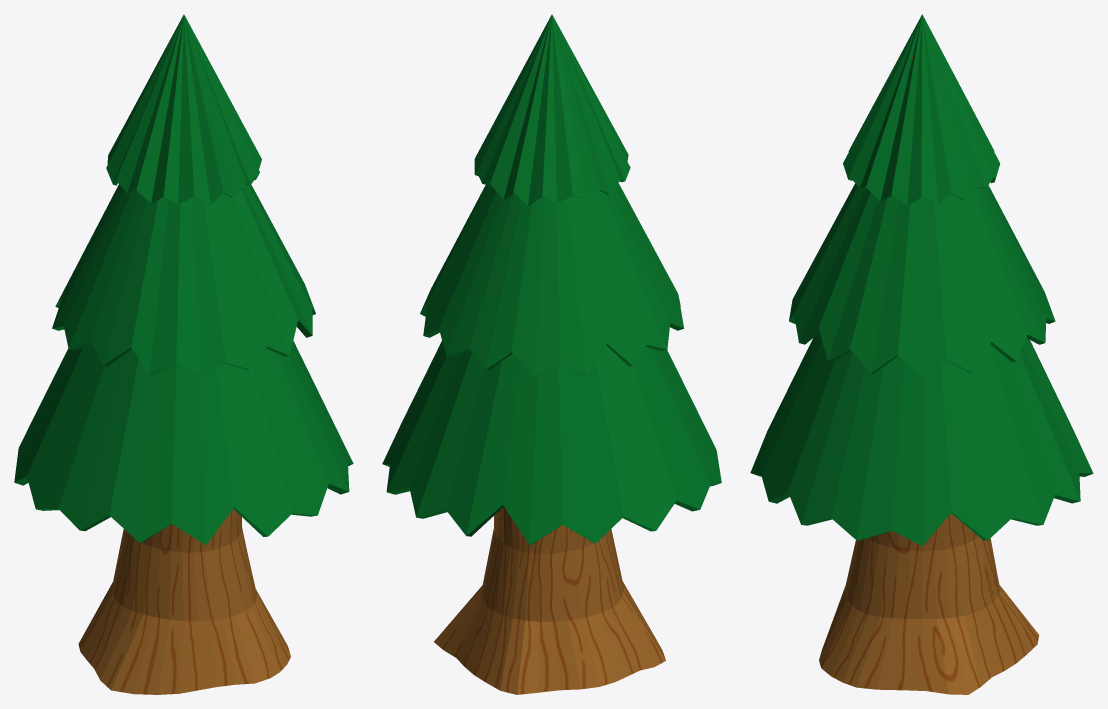
File: tree.fbx
The picture shows the model from 3 angles, left to right: view 1: azimuth 30°, elevation 25°; view 2: azimuth 150°, elevation 25°; view 3: azimuth 270°, elevation 25°; orthographic projection.
Visible parts, largest first — view 1: Leaves_bot, Leaves_mid, Trunk, Leaves_top.001; view 2: Leaves_bot, Leaves_mid, Trunk, Leaves_top.001; view 3: Leaves_bot, Leaves_mid, Trunk, Leaves_top.001.
Part boxes in pixels (box(x1,y1,x2,y2)): Leaves_bot: box(14, 341, 353, 544); Leaves_mid: box(52, 184, 315, 376); Trunk: box(78, 58, 290, 694); Leaves_top.001: box(106, 14, 261, 204); Leaves_bot: box(382, 341, 721, 545); Leaves_mid: box(420, 183, 683, 376); Trunk: box(434, 56, 665, 694); Leaves_top.001: box(474, 14, 630, 205); Leaves_bot: box(750, 333, 1093, 545); Leaves_mid: box(789, 183, 1055, 377); Trunk: box(819, 57, 1039, 694); Leaves_top.001: box(843, 14, 1000, 205).
Bounding box in the file's own units: 494 × 1017 × 495.
4 materials, 1 textured.
